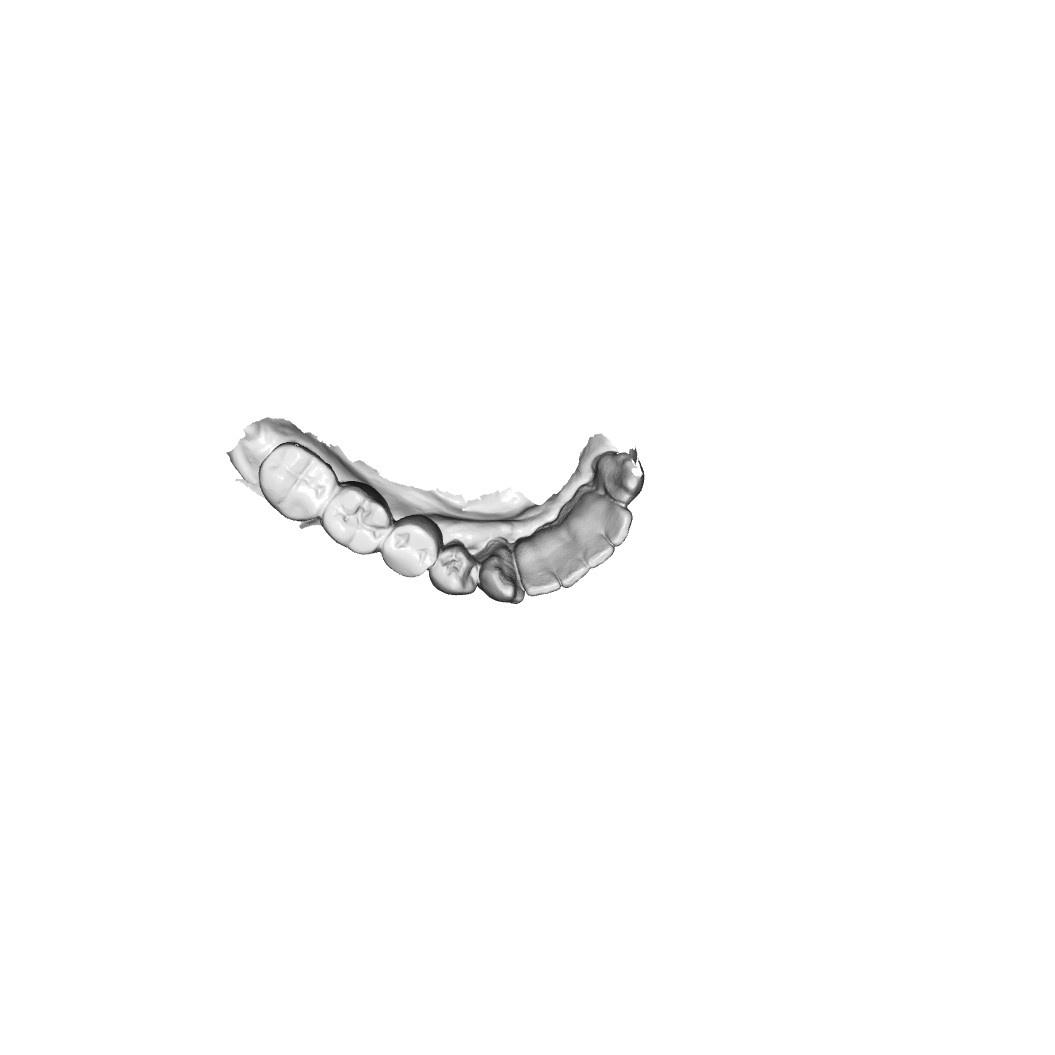canine: (586, 449, 652, 500), (485, 548, 525, 604)
incisor: (545, 524, 593, 585), (576, 519, 618, 567), (591, 496, 632, 542), (519, 545, 557, 592)
molar: (260, 443, 331, 524), (324, 485, 388, 556)
premolar: (380, 519, 437, 577), (428, 540, 477, 598)
